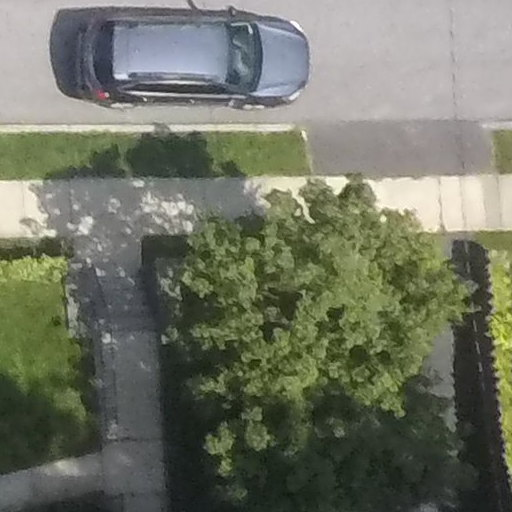car: (72, 2, 326, 125)
driveway: (300, 117, 512, 509)
